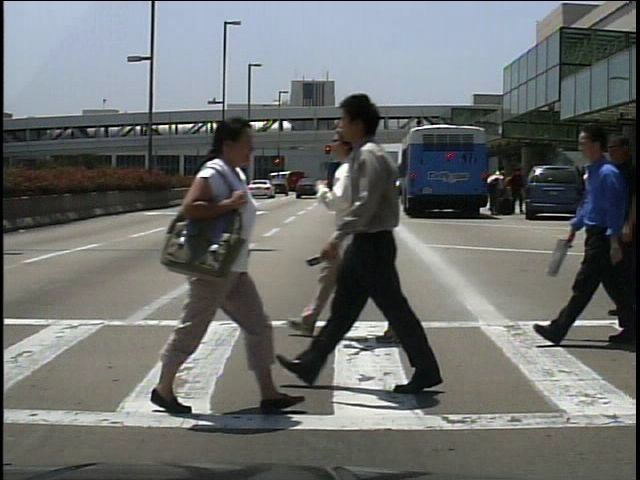person: (308, 88, 450, 401), (147, 115, 278, 418), (300, 118, 423, 357), (546, 114, 629, 348), (486, 162, 504, 214), (508, 166, 526, 216), (587, 168, 599, 218)
